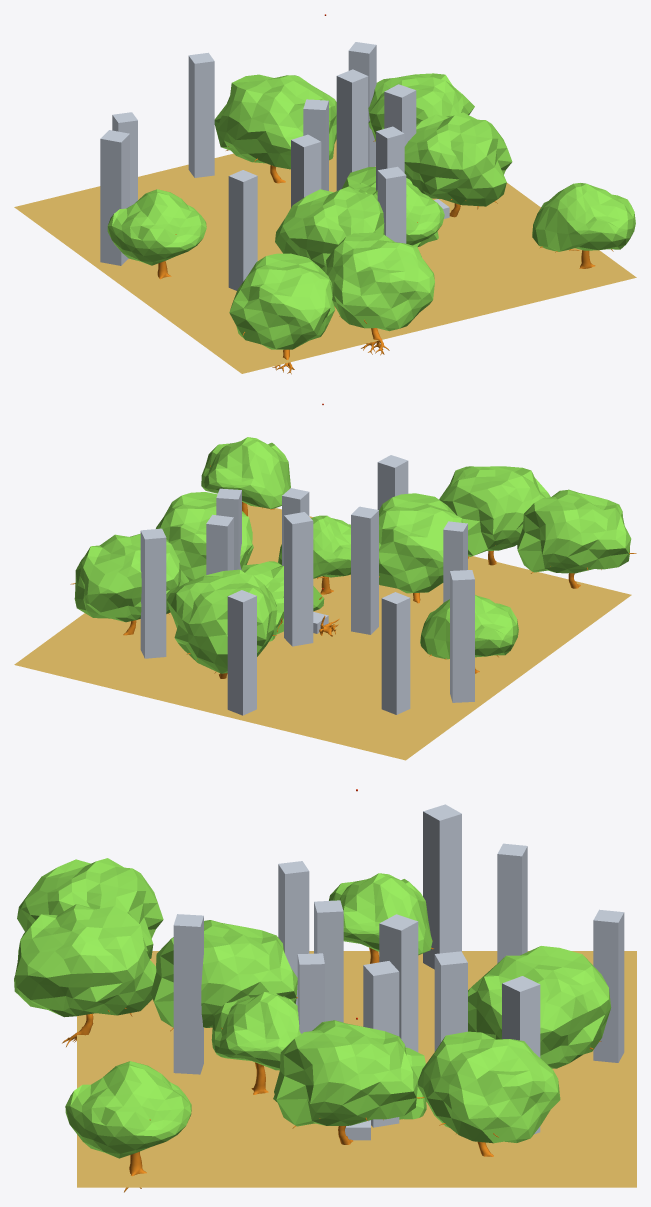
3 views of the same model, one above another, from view 1: azimuth 30°, elevation 25°; view 2: azimuth 150°, elevation 25°; view 3: azimuth 270°, elevation 25° (orthographic). The views are drawn at different scales.
Parts seen in each view (by area): view 1: groud, groud|tree2|Dupli|1, groud|tree2|Dupli|10, groud|tree2|Dupli|13, groud|tree2|Dupli|4, groud|tree1|Dupli|11, groud|tree2|Dupli|9, groud|tree1|Dupli|16, groud|building|Dupli|3, groud|building|Dupli|17, groud|building|Dupli|2, groud|building|Dupli|5 (+10 smaller); view 2: groud, groud|tree2|Dupli|13, groud|tree2|Dupli|4, groud|tree2|Dupli|1, groud|tree2|Dupli|9, groud|tree2|Dupli|18, groud|tree1|Dupli|11, groud|building|Dupli|6, groud|tree2|Dupli|10, groud|building|Dupli|17, groud|tree1|Dupli|16, groud|building|Dupli|19 (+10 smaller); view 3: groud, groud|tree2|Dupli|1, groud|tree2|Dupli|10, groud|tree2|Dupli|18, groud|tree2|Dupli|4, groud|tree1|Dupli|11, groud|tree2|Dupli|9, groud|tree2|Dupli|13, groud|building|Dupli|5, groud|tree1|Dupli|12, groud|tree1|Dupli|16, groud|building|Dupli| (+10 smaller).
Boxes of the visible parts, x1,y1,x2,y2 form: groud: (14,139,636,373); groud|tree2|Dupli|1: (324,232,434,355); groud|tree2|Dupli|10: (404,112,512,217); groud|tree2|Dupli|13: (229,253,335,374); groud|tree2|Dupli|4: (214,74,336,183); groud|tree1|Dupli|11: (532,183,635,268); groud|tree2|Dupli|9: (275,186,384,271); groud|tree1|Dupli|16: (107,189,206,279); groud|building|Dupli|3: (336,69,368,190); groud|building|Dupli|17: (188,52,214,177); groud|building|Dupli|2: (228,170,257,290); groud|building|Dupli|5: (100,130,129,265); groud: (14,504,631,760); groud|tree2|Dupli|13: (517,489,636,588); groud|tree2|Dupli|4: (166,569,277,678); groud|tree2|Dupli|1: (439,466,550,565); groud|tree2|Dupli|9: (379,493,462,603); groud|tree2|Dupli|18: (70,533,188,635); groud|tree1|Dupli|11: (201,437,290,516); groud|building|Dupli|6: (284,512,313,646); groud|tree2|Dupli|10: (156,492,253,581); groud|building|Dupli|17: (227,590,256,715); groud|tree1|Dupli|16: (420,595,518,673); groud|building|Dupli|19: (381,592,410,714); groud: (77,951,636,1187); groud|tree2|Dupli|1: (14,904,156,1046); groud|tree2|Dupli|10: (274,1020,424,1144); groud|tree2|Dupli|18: (418,1031,560,1156); groud|tree2|Dupli|4: (468,946,611,1068); groud|tree1|Dupli|11: (65,1061,191,1192); groud|tree2|Dupli|9: (150,920,297,1031); groud|tree2|Dupli|13: (17,858,163,958); groud|building|Dupli|5: (423,804,461,969); groud|tree1|Dupli|12: (211,992,300,1094); groud|tree1|Dupli|16: (329,873,433,963); groud|building|Dupli|: (173,914,203,1074).
Bounding box in the file's own units: 10440 × 6804 × 11125.
